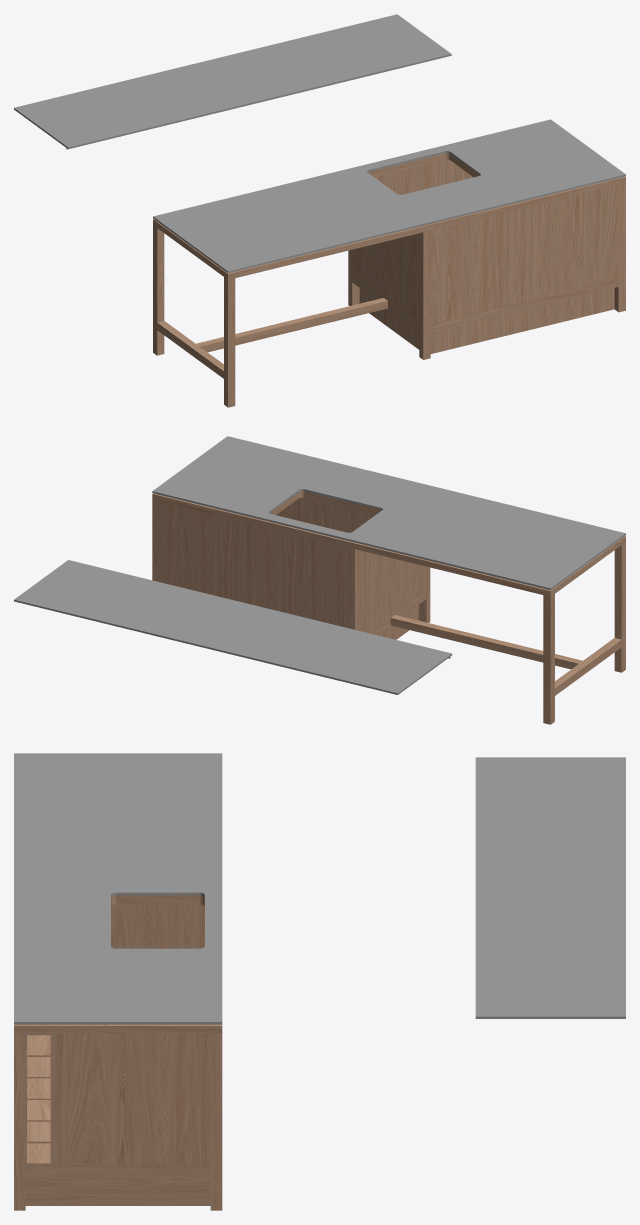
File: CounterTopSteel.glb
3 views of the same model, one above another, from view 1: azimuth 30°, elevation 25°; view 2: azimuth 150°, elevation 25°; view 3: azimuth 270°, elevation 25° (orthographic). The views are drawn at different scales.
Visible parts, largest first — view 1: Table_Base; view 2: Table_Base; view 3: Table_Base.
Part boxes in pixels (x1=…): Table_Base: x1=14, y1=14, x2=625, y2=407; Table_Base: x1=14, y1=436, x2=625, y2=724; Table_Base: x1=14, y1=753, x2=625, y2=1210.
Bounding box in the file's own units: 1.1 × 0.3607 × 1.06.
2 materials, 1 textured.
